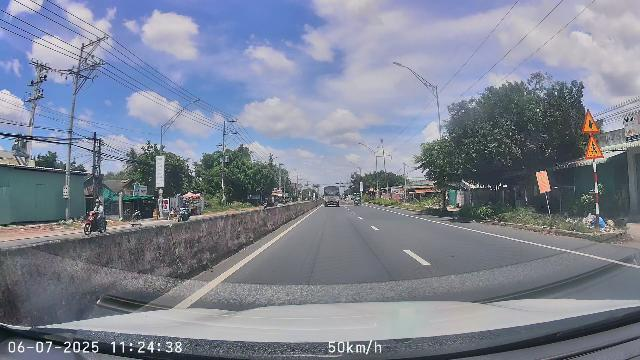207-giao-nhau-voi-duong-khong-uu-tien: (582, 109, 601, 134)
224-duong-nguoi-di-bo-cat-ngang: (585, 134, 604, 159)
